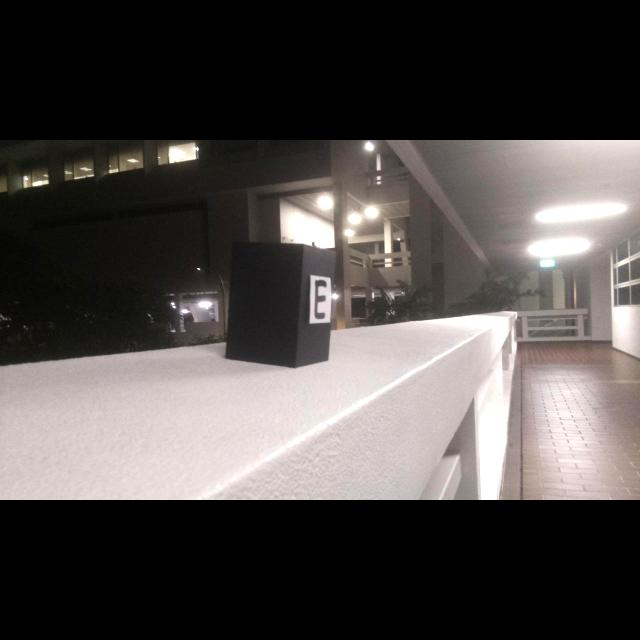E: (314, 280, 326, 319)
